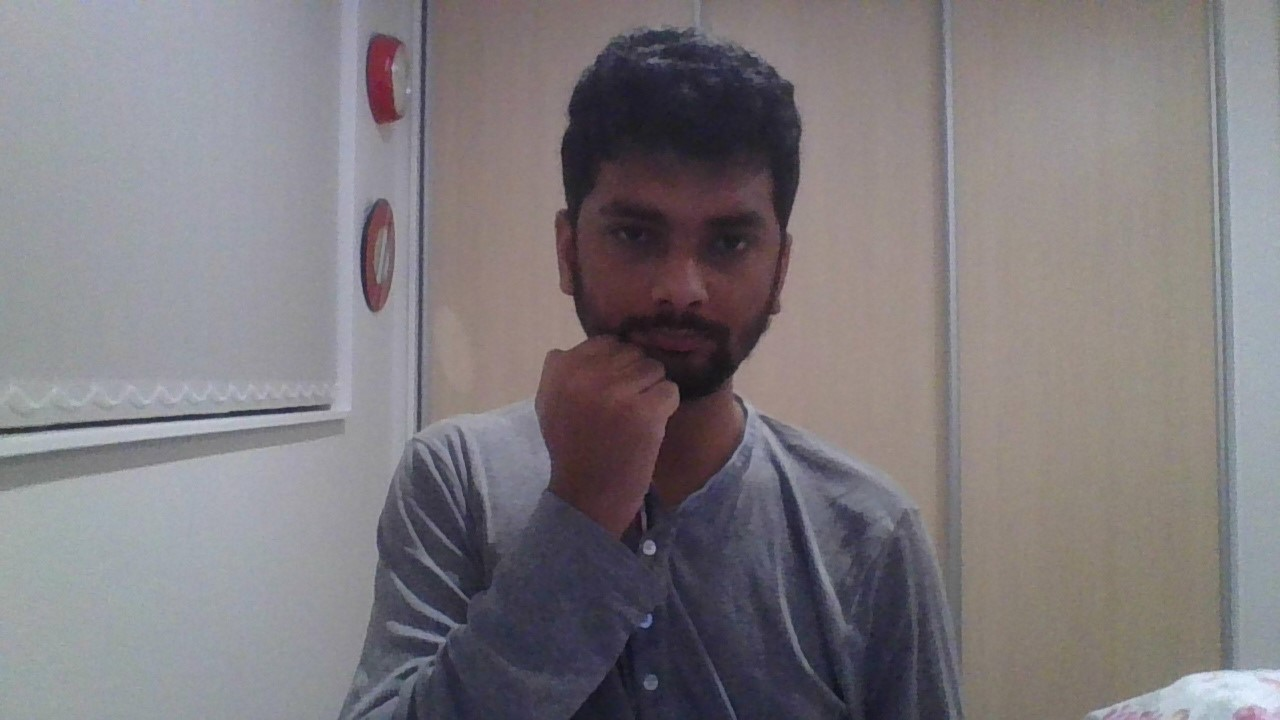day: (536, 334, 681, 539)
